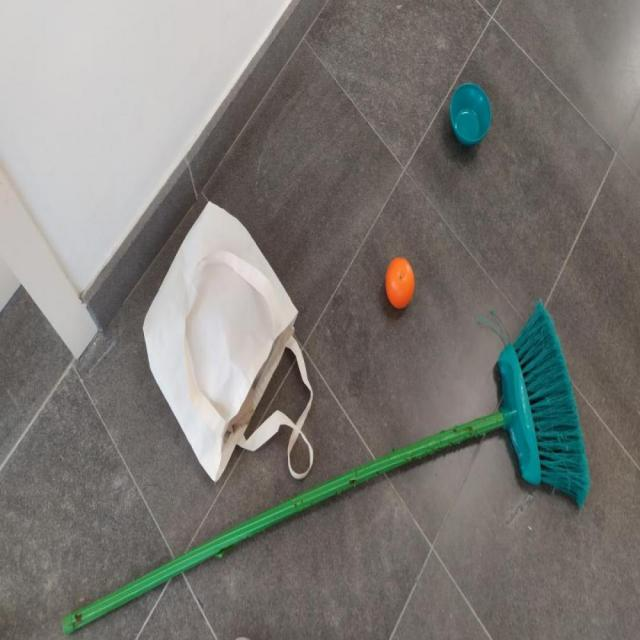Bag: (138, 198, 314, 491)
Orange: (449, 82, 491, 147), (386, 256, 416, 312)
